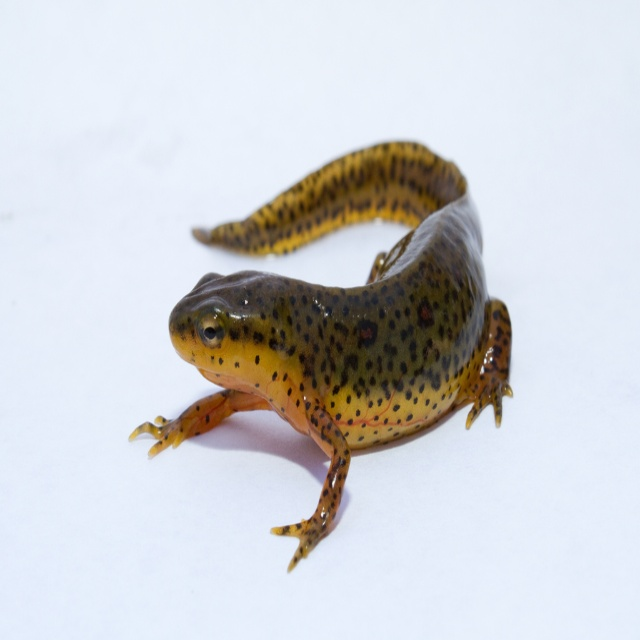Lizard: (143, 166, 526, 611)
